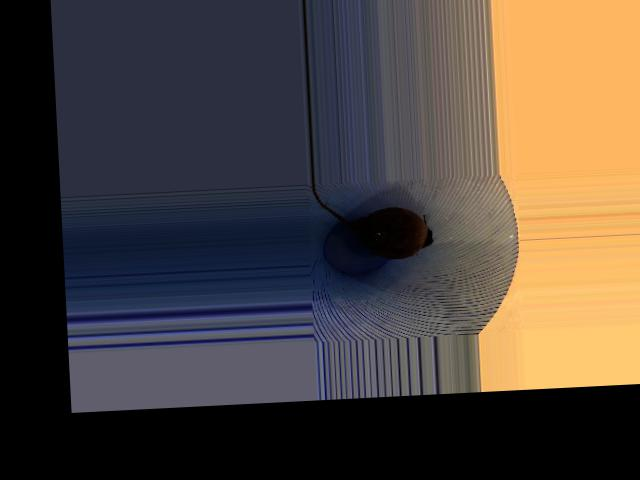beet: (312, 176, 434, 263)
